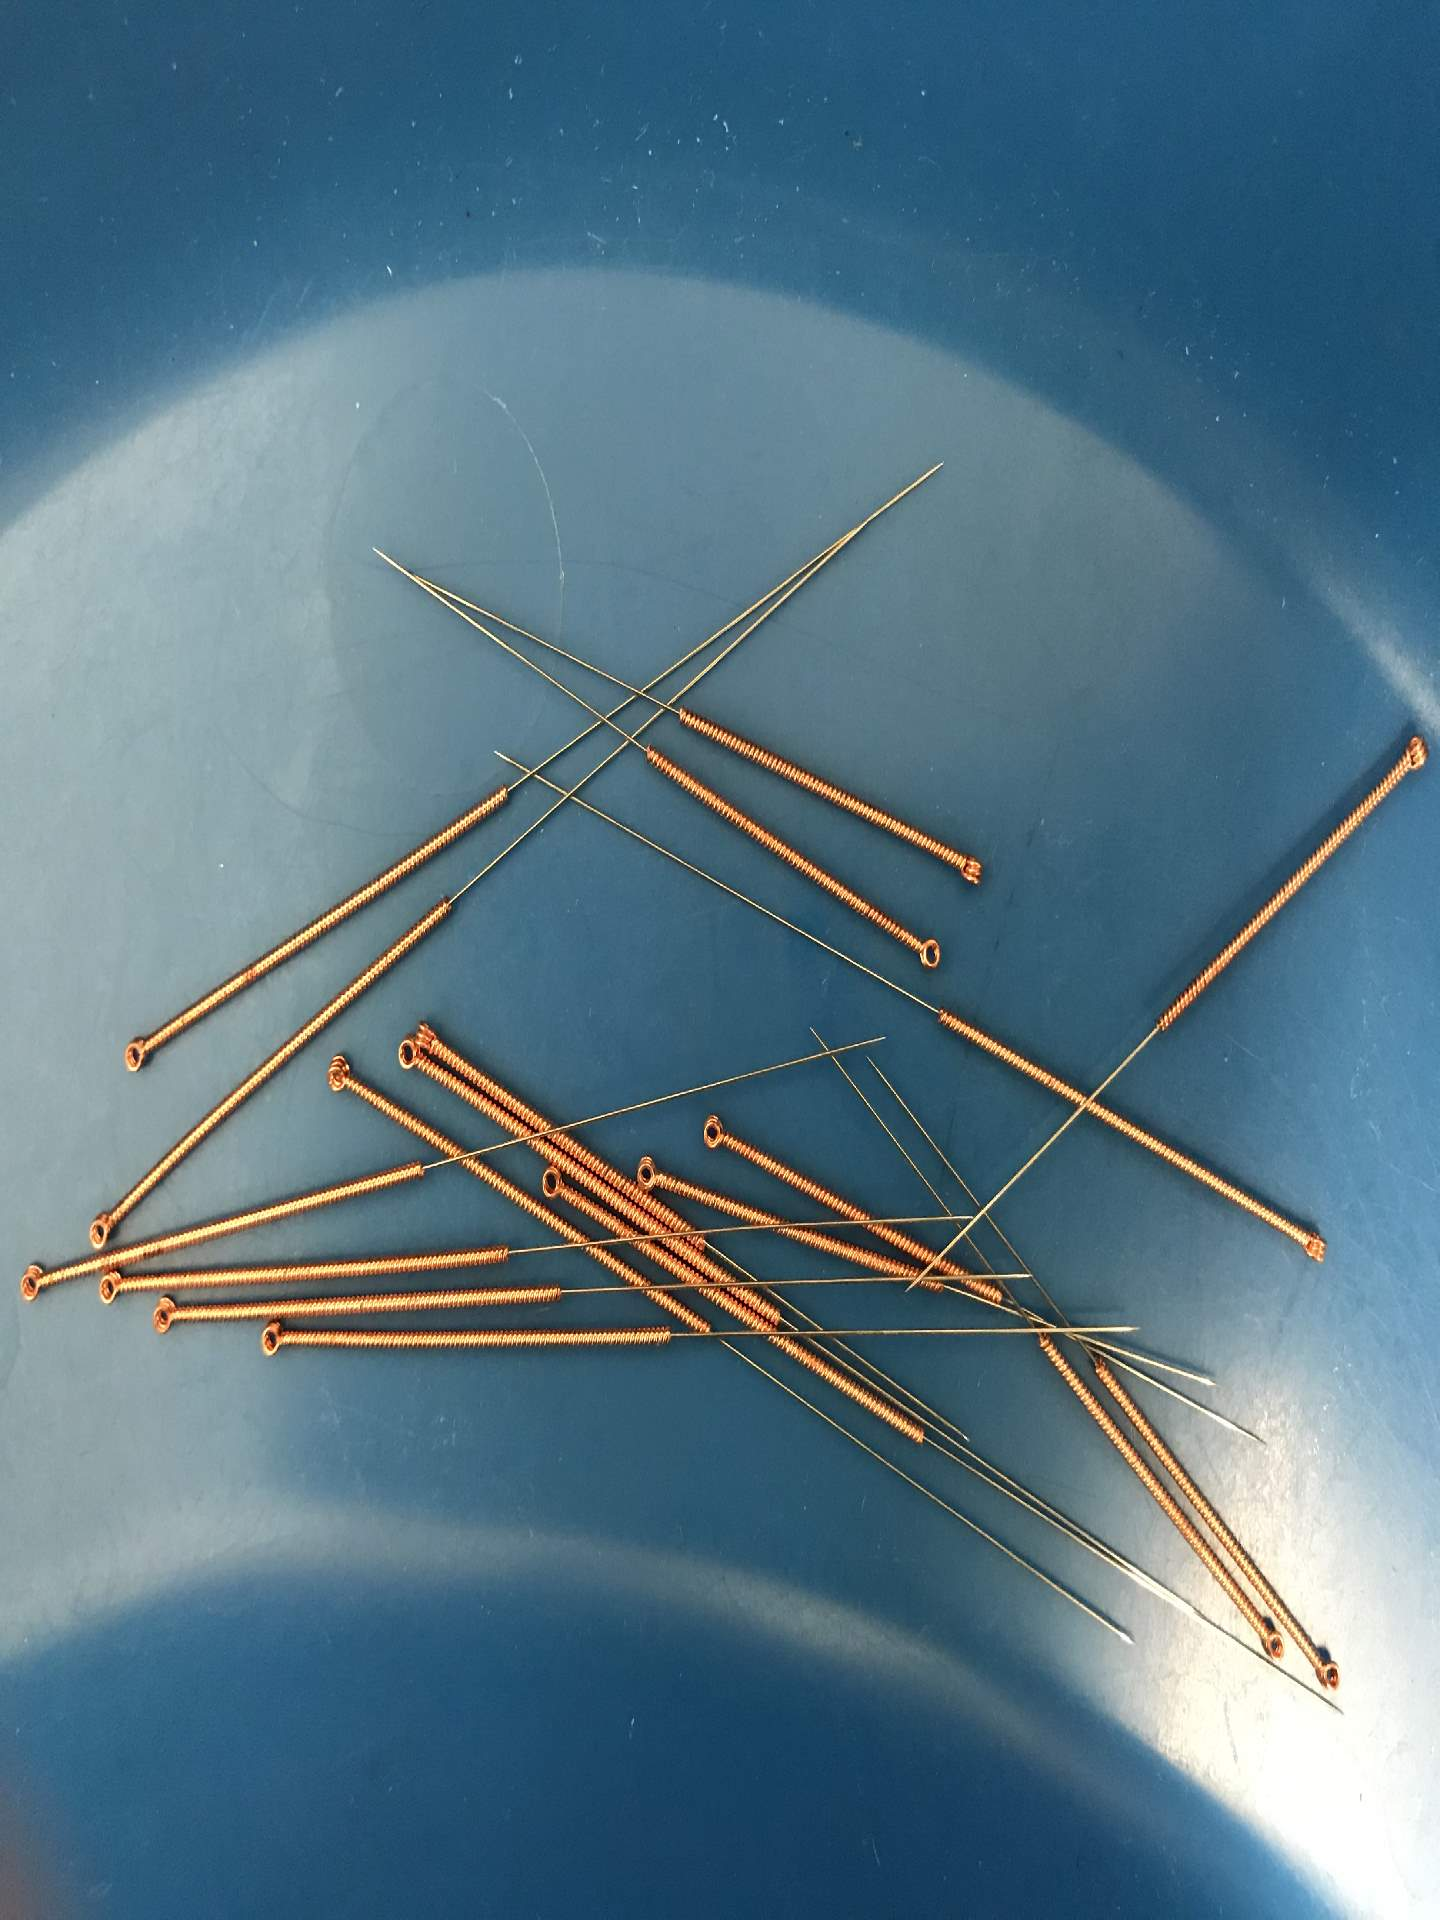needle: (315, 1048, 366, 1105), (1286, 1220, 1339, 1274), (5, 1256, 54, 1311), (1302, 1643, 1349, 1701), (690, 1108, 740, 1161), (941, 844, 992, 893), (1392, 727, 1437, 783), (141, 1293, 189, 1342), (113, 1027, 159, 1079), (250, 1315, 296, 1365), (903, 928, 948, 980), (386, 1033, 427, 1084), (631, 1146, 672, 1197), (411, 1008, 451, 1061), (89, 1265, 132, 1314), (79, 1205, 119, 1255), (1248, 1624, 1290, 1671), (532, 1161, 573, 1208)
